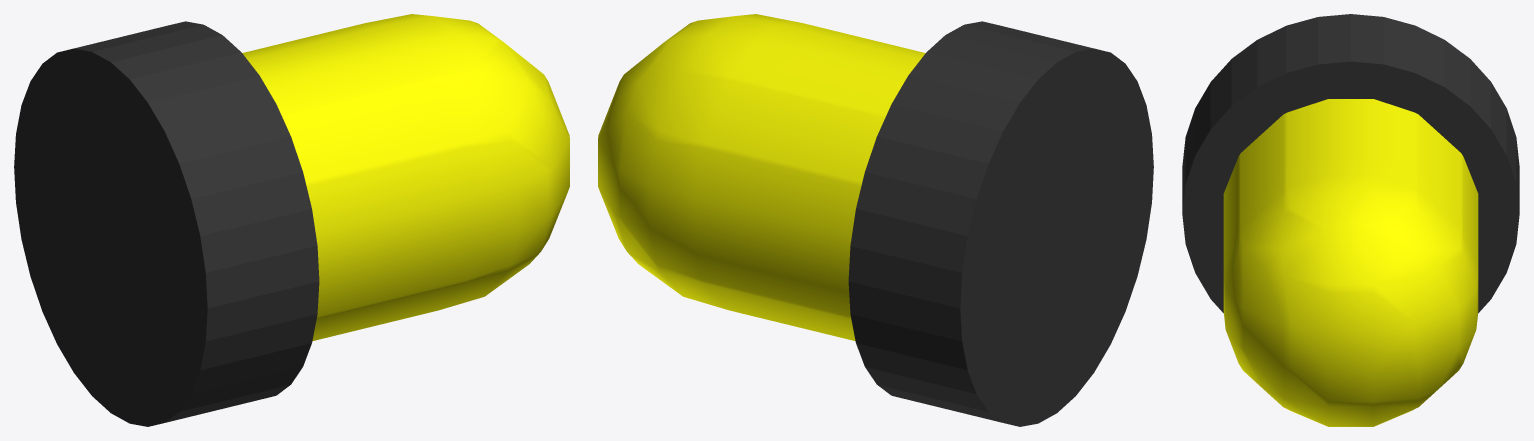
The model's file is wall_lamp_1.DiQutqzP.glb.
The picture shows the model from 3 angles, left to right: view 1: azimuth 30°, elevation 25°; view 2: azimuth 150°, elevation 25°; view 3: azimuth 270°, elevation 25°; orthographic projection. The views are drawn at different scales.
Parts seen in each view (by area): view 1: base, light_bulb; view 2: base, light_bulb; view 3: light_bulb, base.
Boxes of the visible parts, <box> form: base: <box>14,21,319,426</box>; light_bulb: <box>242,14,569,341</box>; base: <box>848,21,1153,426</box>; light_bulb: <box>598,14,925,341</box>; light_bulb: <box>1223,99,1478,426</box>; base: <box>1182,14,1519,313</box>.
Size of the model in its own units: 0.1958 by 0.15 by 0.15.
